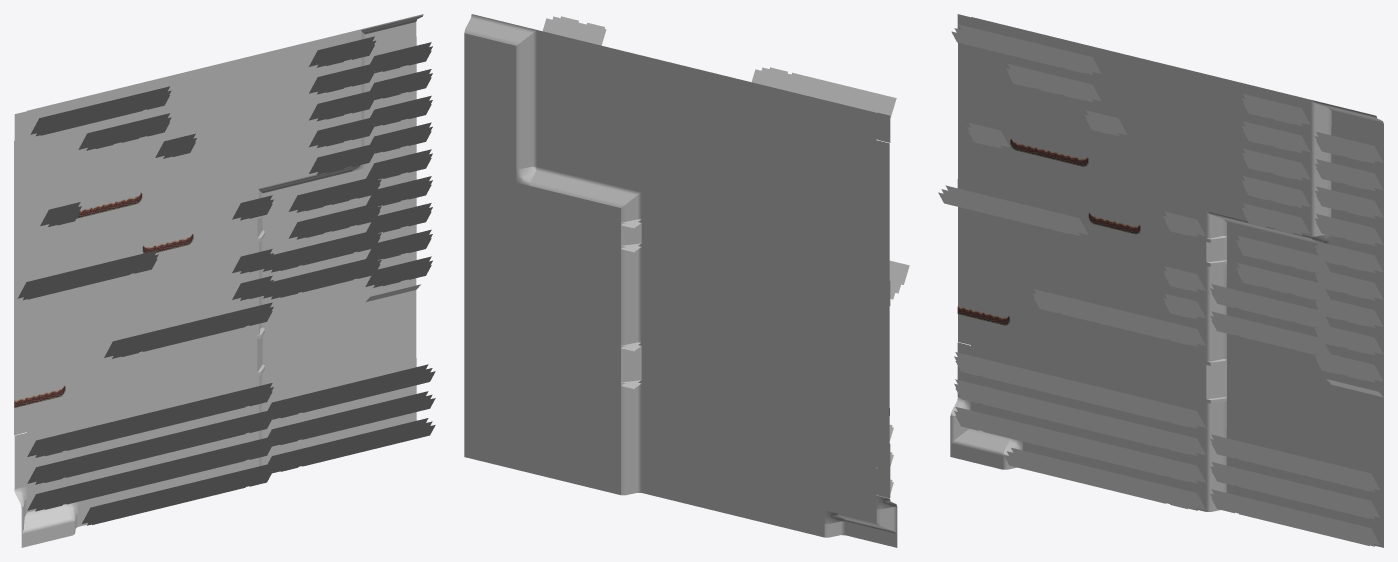
File: Plat_full_19_12.obj
3 renders of one model, left to right at view 1: azimuth 30°, elevation 25°; view 2: azimuth 150°, elevation 25°; view 3: azimuth 330°, elevation 25°, orthographic. The views are drawn at different scales.
Visible parts, largest first — view 1: map; view 2: map; view 3: map.
Boxes of the visible parts, x1,y1,x2,y2 form: map: (14,14,435,547); map: (464,14,909,547); map: (938,14,1383,547).
Bounding box in the file's own units: 32.25 × 32.12 × 3.64.
